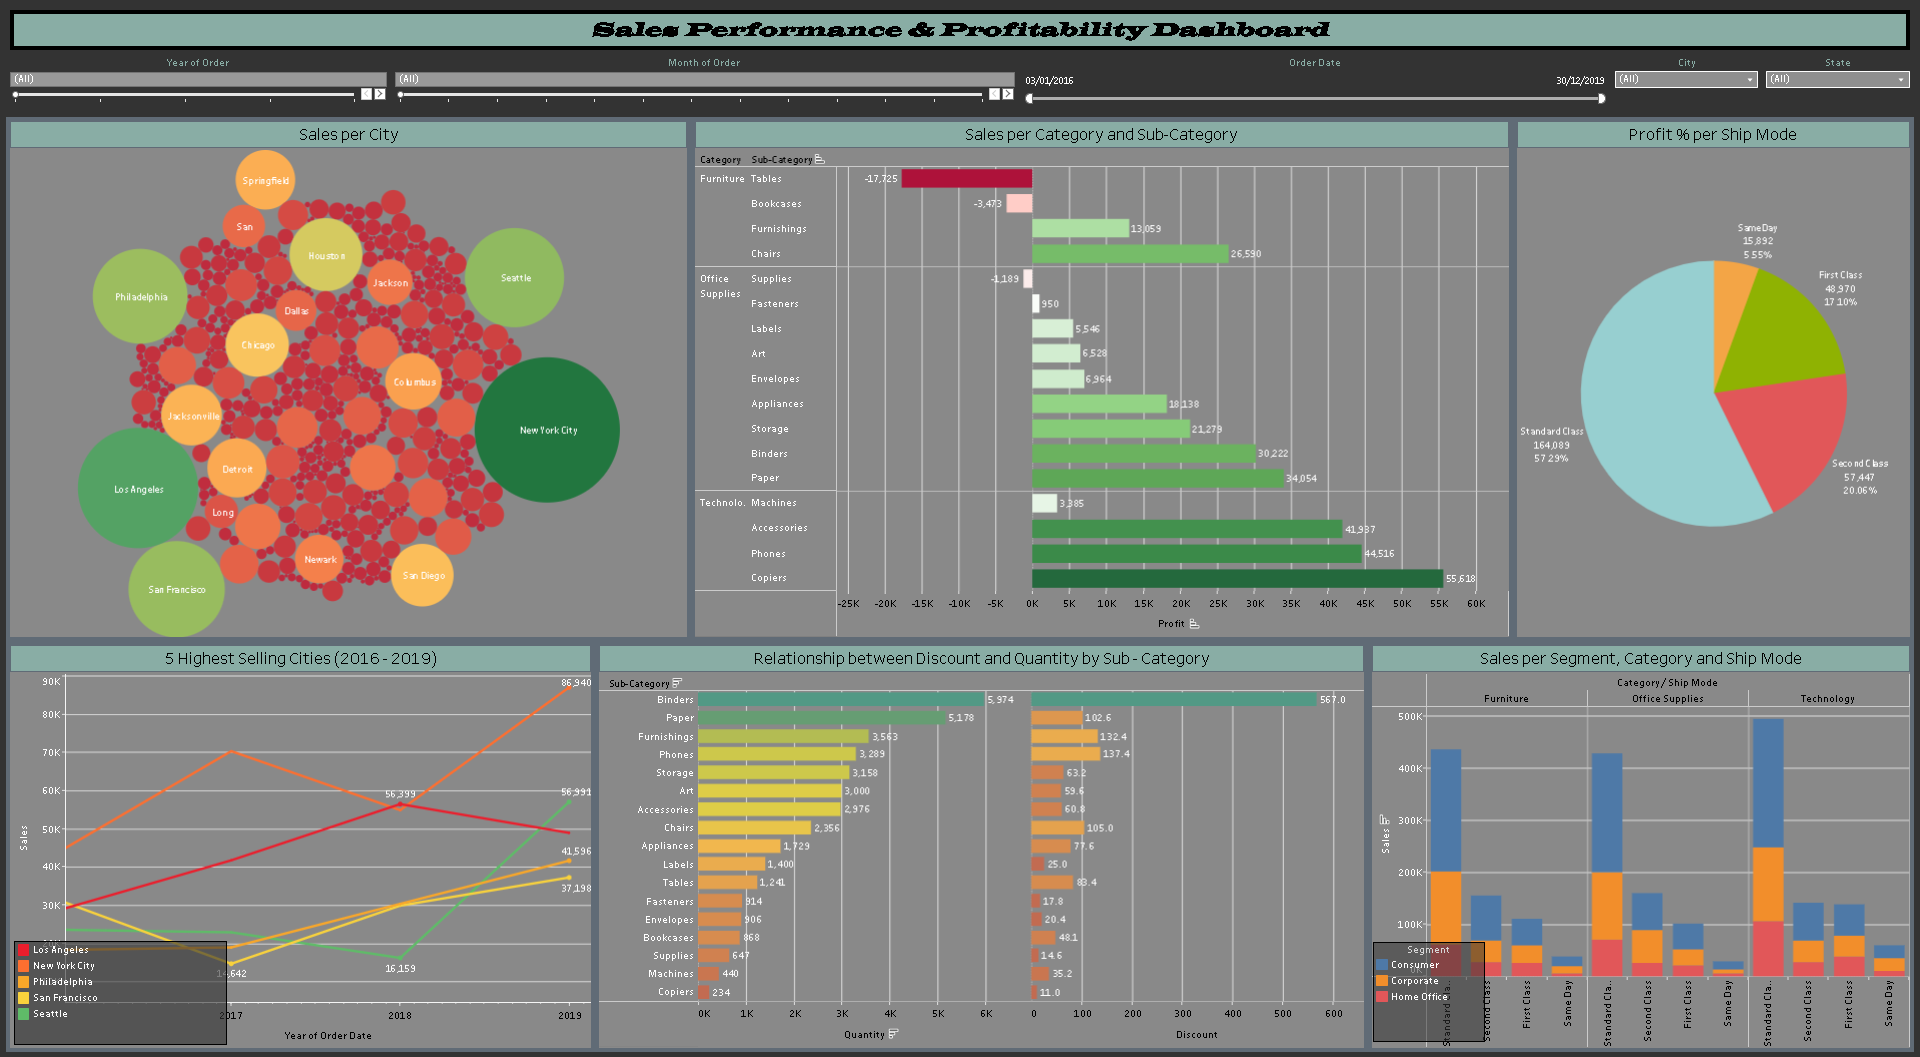

The dashboard page shown, as its layout file describes it:
{"tool":"tableau","page":{"name":"Dashboard 1","canvas":[1000,1000],"units":"permille","ordinal":0},"visuals":[{"type":"title","box":[4.8,10,990.5,72.3]},{"type":"filter","title":"3","param":"[federated.1ia2u2e054rg9n1col54c0g588d2].[yr:Order Date:ok]","box":[4.8,82.3,200,58.1]},{"type":"filter","title":"3","param":"[federated.1ia2u2e054rg9n1col54c0g588d2].[mn:Order Date:ok]","box":[204.8,82.3,325.9,58.1]},{"type":"filter","title":"6","param":"[federated.1ia2u2e054rg9n1col54c0g588d2].[none:Order Date:qk]","box":[530.6,82.3,307.7,58.1]},{"type":"filter","title":"3","param":"[federated.1ia2u2e054rg9n1col54c0g588d2].[none:City:nk]","box":[838.1,82.3,78.6,58.6]},{"type":"filter","title":"3","param":"[federated.1ia2u2e054rg9n1col54c0g588d2].[none:State:nk]","box":[916.7,82.3,78.6,58.6]},{"type":"worksheet","title":"3","mark":"Circle","box":[4.8,140.5,355.7,476]},{"type":"worksheet","title":"1","mark":"Bar","rows":["Category","Sub-Category"],"cols":["Profit"],"box":[360.4,140.5,426.9,476]},{"type":"worksheet","title":"2","mark":"Pie","box":[787.3,140.5,208,476]},{"type":"worksheet","title":"4","mark":"Automatic","rows":["Sales"],"cols":["Order Date"],"box":[4.8,616.4,306,373.6]},{"type":"worksheet","title":"6","mark":"Automatic","rows":["Sub-Category"],"cols":["Quantity","Discount"],"box":[310.7,616.4,401.4,373.6]},{"type":"worksheet","title":"5","mark":"Automatic","rows":["Sales"],"cols":["Category","Ship Mode"],"box":[712.1,616.4,283.1,373.6]},{"type":"legend","title":"4","param":"[federated.1ia2u2e054rg9n1col54c0g588d2].[none:City:nk]","box":[7.7,889,110.7,98.1]},{"type":"legend","title":"5","param":"[federated.1ia2u2e054rg9n1col54c0g588d2].[none:Segment:nk]","box":[714.9,890.3,58.3,93.5]}]}

Visuals, with their boxes on the dashboard's canvas, which has no fixed pixel size, in thousandths of its width and height (x1, y1, x2, y2). These are canvas units, not pixel positions in the 1920x1057 screenshot, which may show the page scaled, cropped or inside an application window:
title: left=5, top=10, right=995, bottom=82
"3" filter: left=5, top=82, right=205, bottom=140
"3" filter: left=205, top=82, right=531, bottom=140
"6" filter: left=531, top=82, right=838, bottom=140
"3" filter: left=838, top=82, right=917, bottom=141
"3" filter: left=917, top=82, right=995, bottom=141
"3" worksheet (Circle marks): left=5, top=140, right=360, bottom=616
"1" worksheet (Bar marks): left=360, top=140, right=787, bottom=616
"2" worksheet (Pie marks): left=787, top=140, right=995, bottom=616
"4" worksheet: left=5, top=616, right=311, bottom=990
"6" worksheet: left=311, top=616, right=712, bottom=990
"5" worksheet: left=712, top=616, right=995, bottom=990
"4" legend: left=8, top=889, right=118, bottom=987
"5" legend: left=715, top=890, right=773, bottom=984
